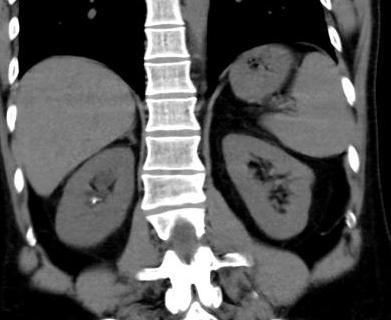Tas_Var: (92, 198, 96, 206)
